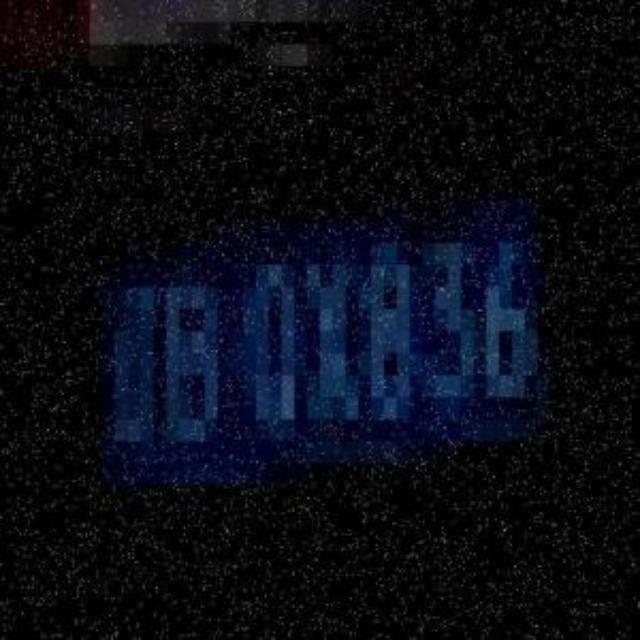License Plate: (78, 167, 584, 538)
